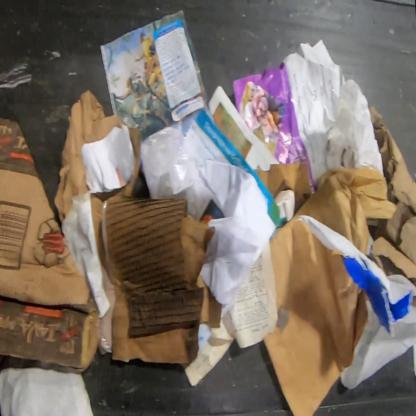cardboard: (0, 115, 102, 376), (263, 216, 369, 415), (100, 193, 221, 363), (53, 90, 141, 272), (294, 167, 397, 256), (370, 106, 415, 291), (255, 162, 312, 216)
soft_plastic: (140, 126, 213, 219)
